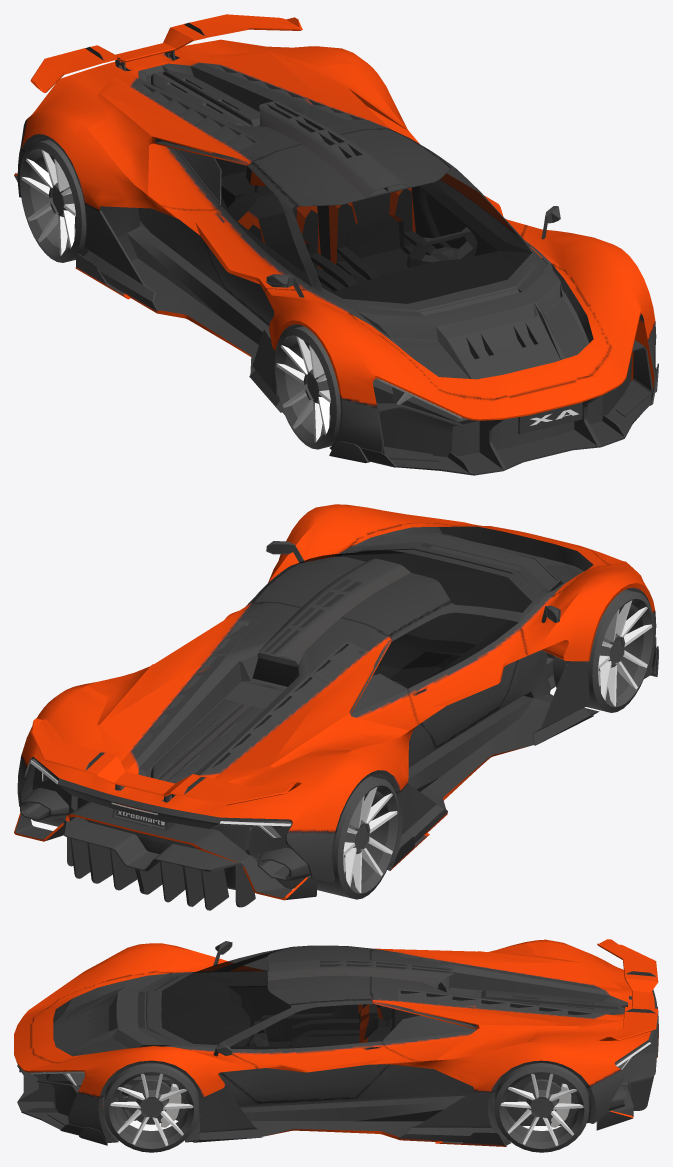
Rendered from Street Racer 2.fbx.
3 views of the same model, one above another, from view 1: azimuth 30°, elevation 25°; view 2: azimuth 150°, elevation 25°; view 3: azimuth 270°, elevation 25° (orthographic). The views are drawn at different scales.
Visible parts, largest first — view 1: Street Racer, Windshield., RR Wheel, FR Wheel, Tail wing, Steering wheel; view 2: Street Racer, Windshield., FR Wheel, RR Wheel, Tail wing, Rear lights; view 3: Street Racer, Windshield., RL Wheel, FL Wheel, Tail wing, FL Brake, RL Brake.
Boxes of the visible parts, bbox=[...] form: Street Racer: bbox=[14, 39, 658, 475]; Windshield.: bbox=[215, 158, 531, 303]; RR Wheel: bbox=[20, 139, 86, 262]; FR Wheel: bbox=[274, 326, 340, 449]; Tail wing: bbox=[30, 14, 302, 92]; Steering wheel: bbox=[407, 227, 477, 267]; Street Racer: bbox=[14, 504, 658, 910]; Windshield.: bbox=[246, 550, 531, 688]; FR Wheel: bbox=[553, 589, 654, 712]; RR Wheel: bbox=[303, 776, 399, 899]; Tail wing: bbox=[30, 718, 302, 805]; Rear lights: bbox=[30, 759, 291, 837]; Street Racer: bbox=[14, 939, 658, 1146]; Windshield.: bbox=[161, 947, 446, 1049]; RL Wheel: bbox=[494, 1063, 589, 1152]; FL Wheel: bbox=[104, 1063, 199, 1152]; Tail wing: bbox=[597, 939, 658, 1040]; FL Brake: bbox=[160, 1083, 181, 1127]; RL Brake: bbox=[551, 1083, 571, 1127].
Bounding box in the file's own units: 298 × 148 × 663.
Materials: 8 (5 with a texture image).
